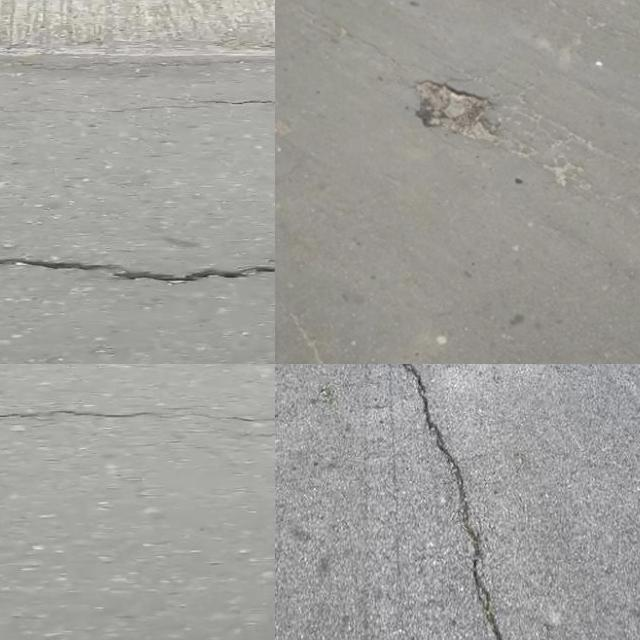Lubang: (410, 84, 507, 142)
Melintang: (0, 251, 275, 297), (0, 401, 200, 427)
Memanjang: (386, 364, 518, 640)
